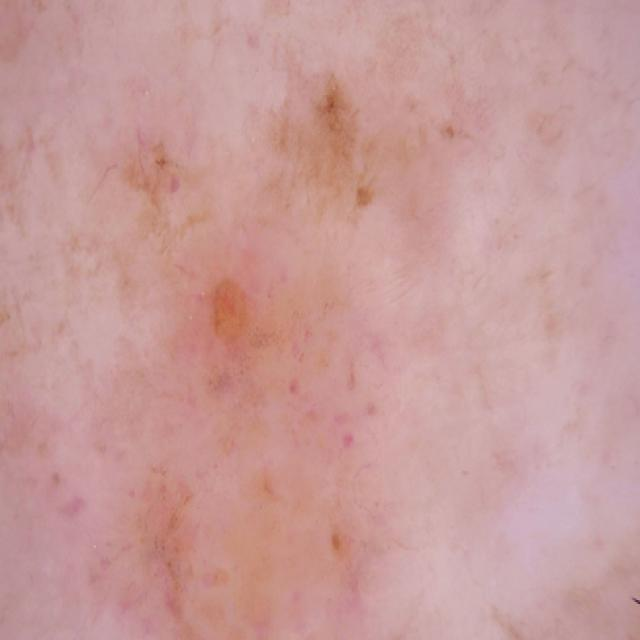Carcinoma: (292, 68, 426, 243), (188, 268, 282, 387)
